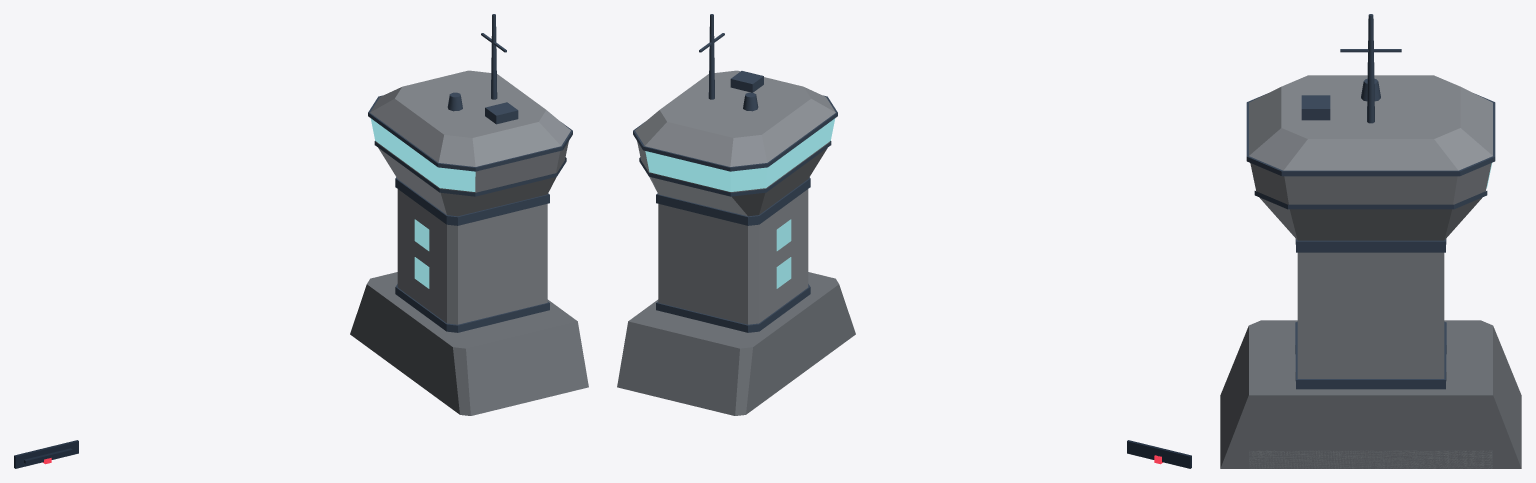
The model's file is AF_Tower.glb.
The picture shows the model from 3 angles, left to right: view 1: azimuth 30°, elevation 25°; view 2: azimuth 150°, elevation 25°; view 3: azimuth 270°, elevation 25°; orthographic projection. The views are drawn at different scales.
Visible parts, largest first — view 1: AF_Tower__cab, AF_Tower__base, AF_Tower__cab_trim, AF_Tower__cab_glass, AF_Tower__roof_gear, AF_Tower__radar, AF_Tower__neck_lights; view 2: AF_Tower__cab, AF_Tower__base, AF_Tower__cab_trim, AF_Tower__cab_glass, AF_Tower__roof_gear, AF_Tower__radar, AF_Tower__neck_lights; view 3: AF_Tower__cab, AF_Tower__base, AF_Tower__cab_trim, AF_Tower__shaft, AF_Tower__roof_gear.
Part boxes in pixels (left/top/right/bottom): AF_Tower__cab: left=370, top=70, right=570, bottom=324; AF_Tower__base: left=350, top=272, right=588, bottom=415; AF_Tower__cab_trim: left=368, top=95, right=572, bottom=332; AF_Tower__cab_glass: left=370, top=118, right=475, bottom=191; AF_Tower__roof_gear: left=447, top=14, right=518, bottom=124; AF_Tower__radar: left=14, top=440, right=78, bottom=468; AF_Tower__neck_lights: left=414, top=219, right=429, bottom=288; AF_Tower__cab: left=635, top=70, right=835, bottom=324; AF_Tower__base: left=617, top=272, right=855, bottom=415; AF_Tower__cab_trim: left=633, top=95, right=837, bottom=332; AF_Tower__cab_glass: left=645, top=118, right=835, bottom=191; AF_Tower__roof_gear: left=699, top=14, right=763, bottom=111; AF_Tower__radar: left=1127, top=440, right=1191, bottom=468; AF_Tower__neck_lights: left=776, top=219, right=791, bottom=288; AF_Tower__cab: left=1249, top=75, right=1492, bottom=378; AF_Tower__base: left=1220, top=320, right=1521, bottom=468; AF_Tower__cab_trim: left=1246, top=94, right=1495, bottom=389; AF_Tower__shaft: left=1249, top=450, right=1492, bottom=468; AF_Tower__roof_gear: left=1301, top=14, right=1401, bottom=123.
Bounding box in the file's own units: 37.89 × 23.4 × 14.8.
